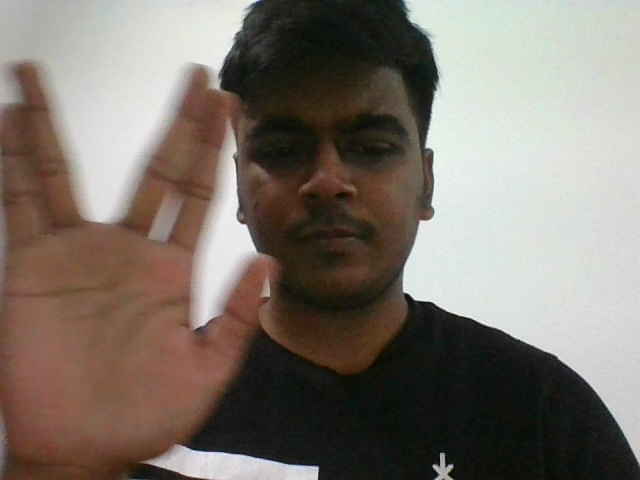livelong: (4, 60, 248, 445)
